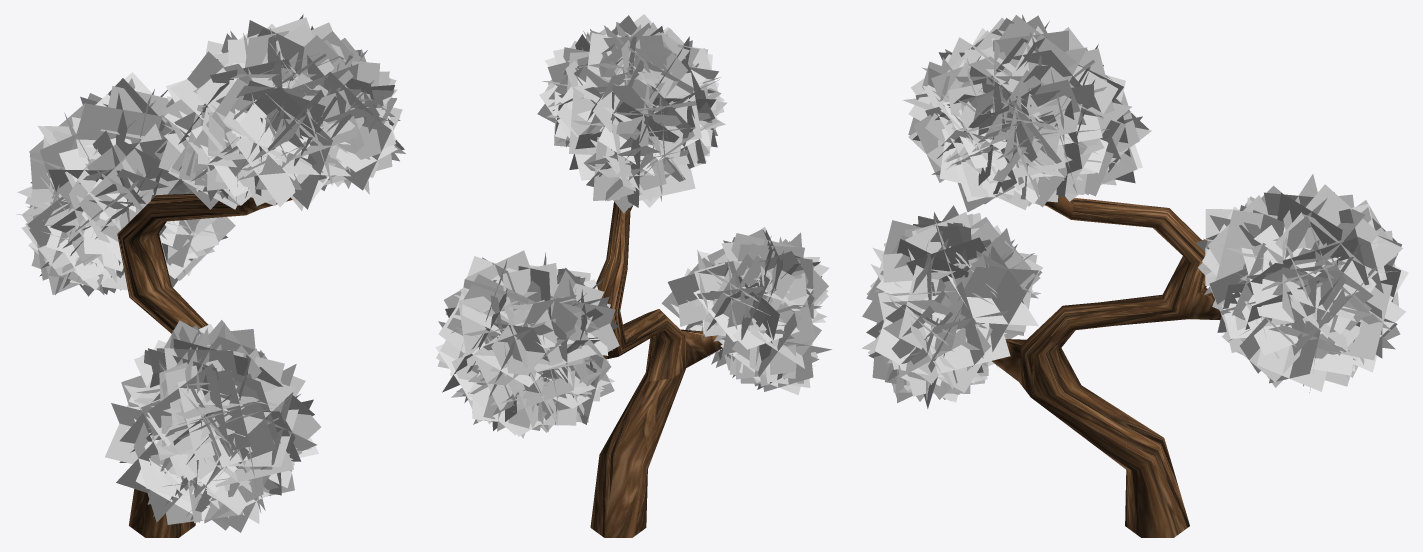
File: JapTreeDesign1.fbx
3 renders of one model, left to right at view 1: azimuth 30°, elevation 25°; view 2: azimuth 150°, elevation 25°; view 3: azimuth 270°, elevation 25°, orthographic. The views are drawn at different scales.
Parts seen in each view (by area): view 1: Leaf.003, Cylinder.002; view 2: Leaf.003, Cylinder.002; view 3: Leaf.003, Cylinder.002.
Boxes of the visible parts, x1,y1,x2,y2 form: Leaf.003: (16,14,405,532); Cylinder.002: (117,194,292,537); Leaf.003: (435,14,831,438); Cylinder.002: (590,202,722,537); Leaf.003: (861,14,1408,408); Cylinder.002: (992,195,1221,537).
Size of the model in its own units: 10.2 by 17.92 by 16.82.
